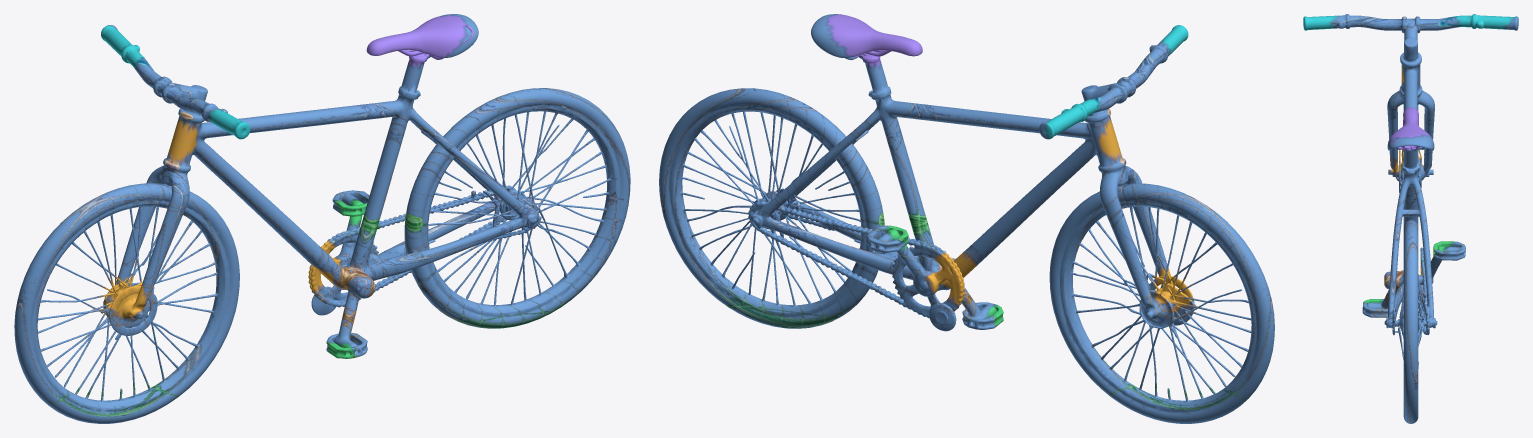
Rendered from bike.glb.
3 renders of one model, left to right at view 1: azimuth 30°, elevation 25°; view 2: azimuth 150°, elevation 25°; view 3: azimuth 270°, elevation 25°, orthographic. The views are drawn at different scales.
Visible parts, largest first — view 1: Mesh_0; view 2: Mesh_0; view 3: Mesh_0.
Boxes of the visible parts, x1,y1,x2,y2 form: Mesh_0: [14, 14, 630, 423]; Mesh_0: [659, 14, 1274, 423]; Mesh_0: [1303, 14, 1518, 423].
Size of the model in its own units: 1 by 0.5211 by 0.3837.
Materials: 1 (1 with a texture image).
